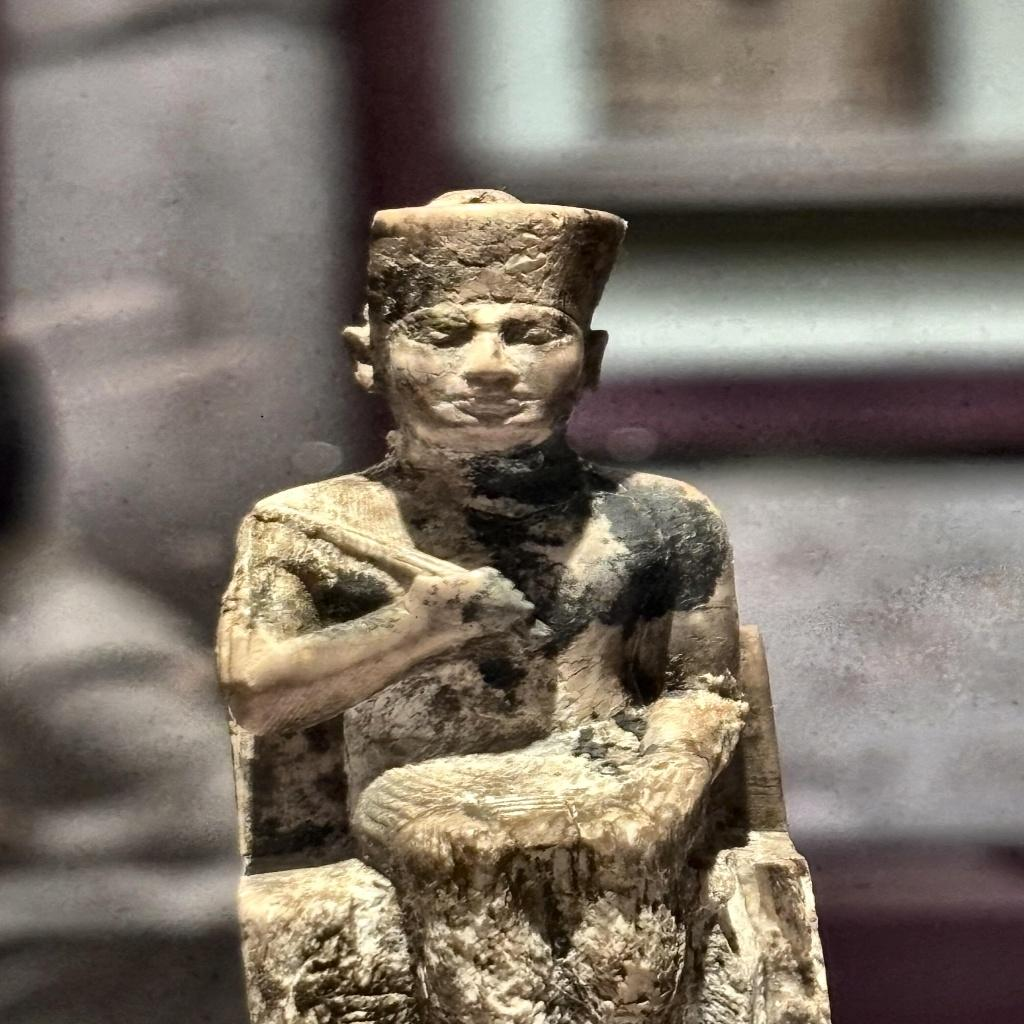Statue of Khufu: (214, 178, 836, 1018)
